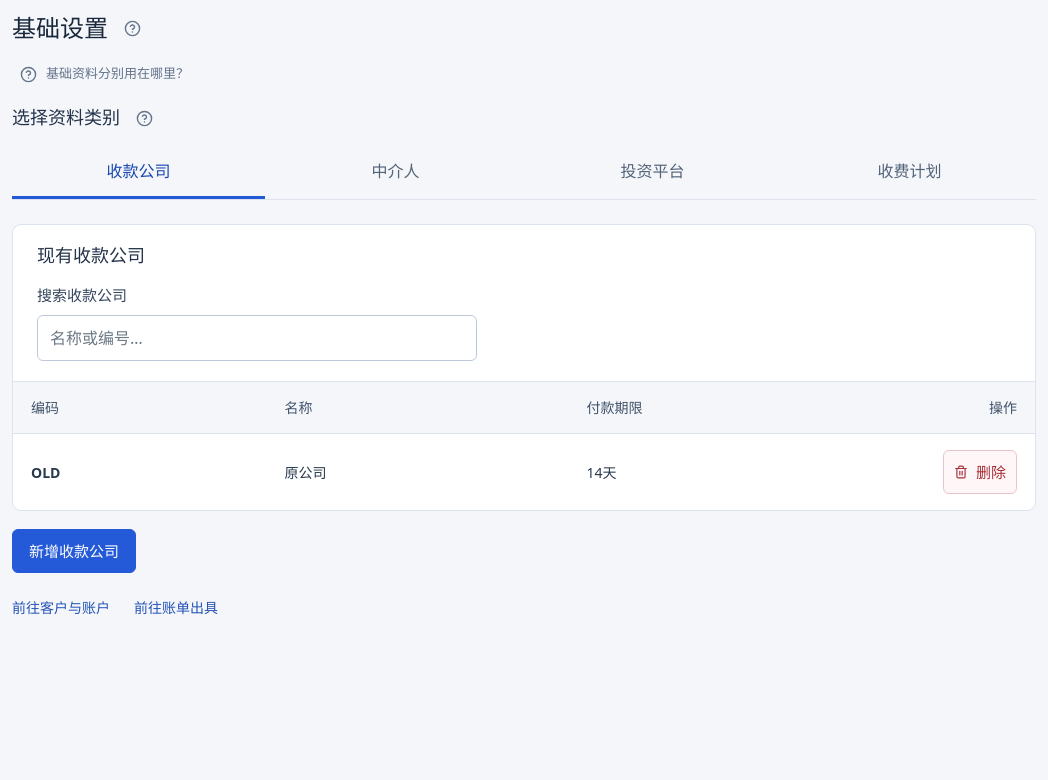
Test: 保存成功后立即更新页面 › 投资平台：异步完成后重置表单并显示新记录
Expected: the text "原公司" is shown, [266,434,569,510]
Click the button "投资平台" at x=652, y=173, box [526,146,779,199]
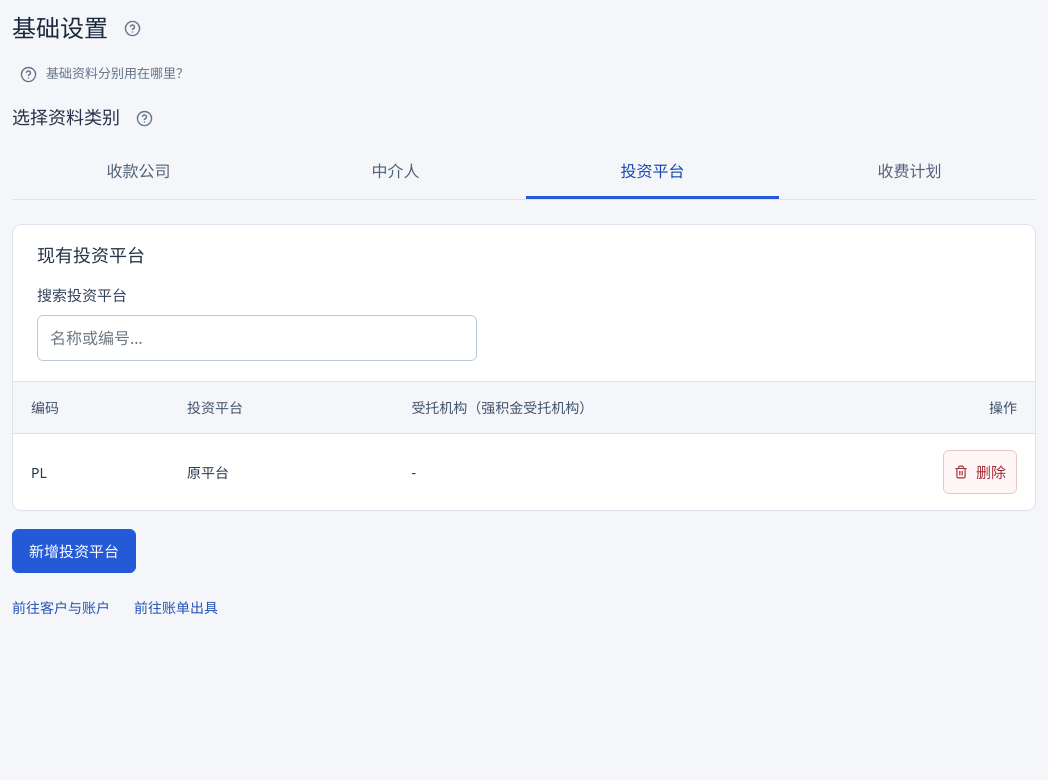
Click the button "新增投资平台" at x=74, y=551, box [12,529,136,573]
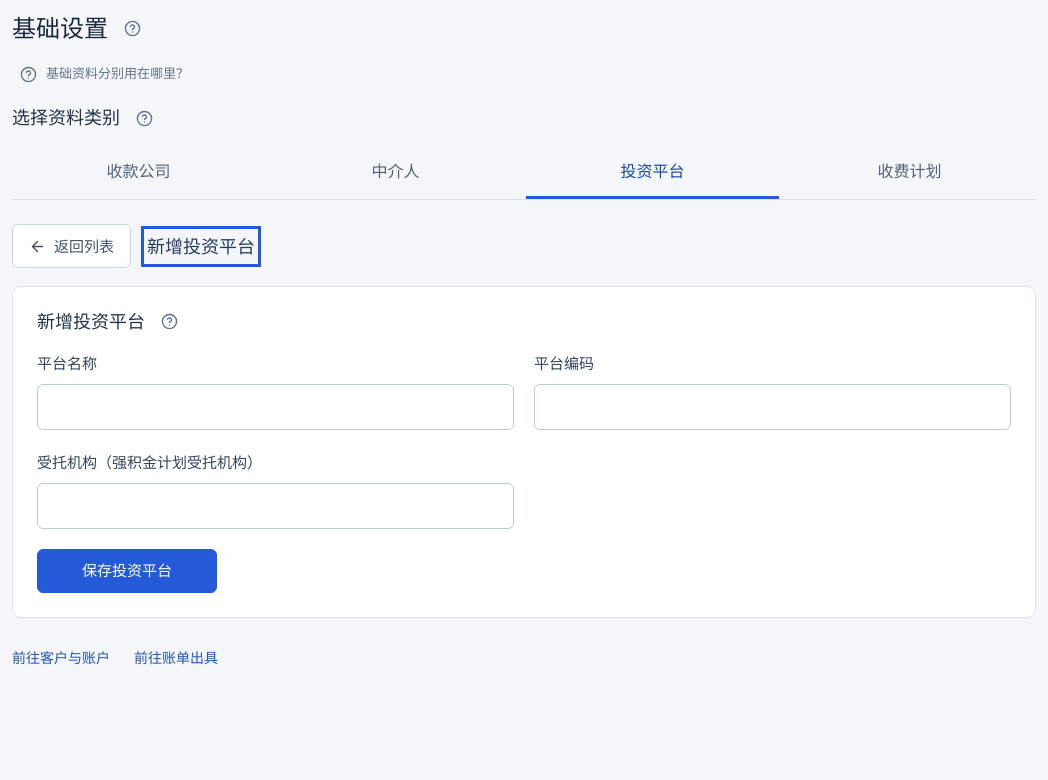
Now the field named "name" is shown
Type "新平台" into the field named "name" at x=276, y=407, box [37,384,514,430]
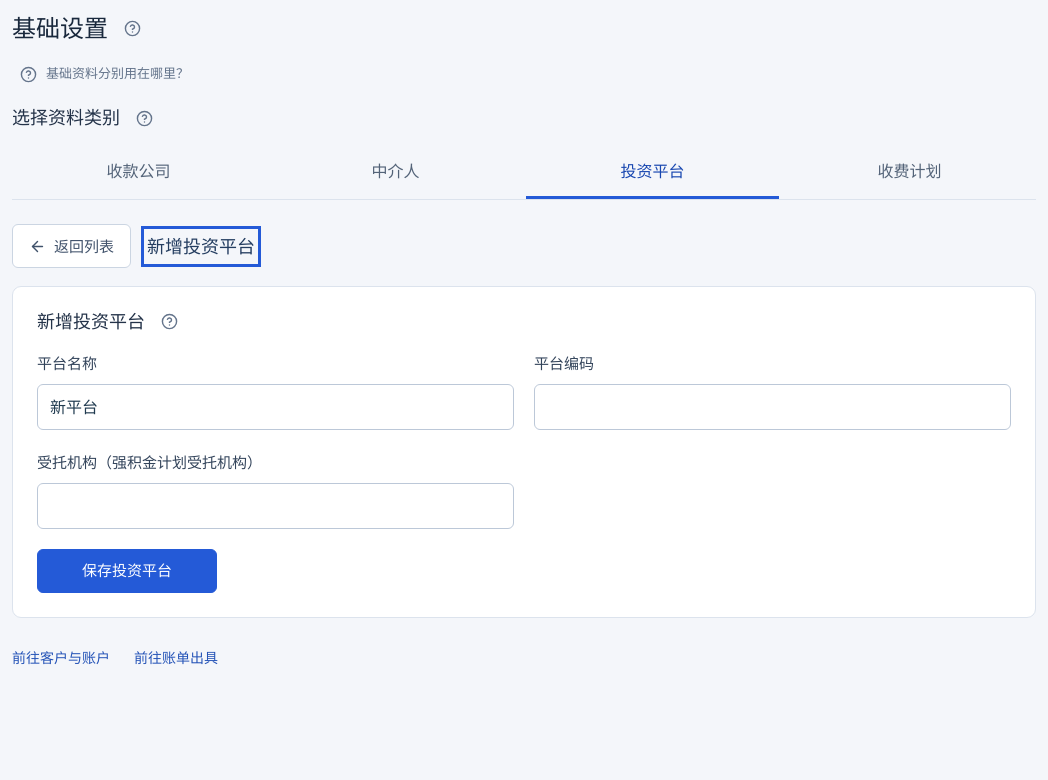
Now the field named "code" is shown
Type "NEWPL" into the field named "code" at x=772, y=407, box [534,384,1011,430]
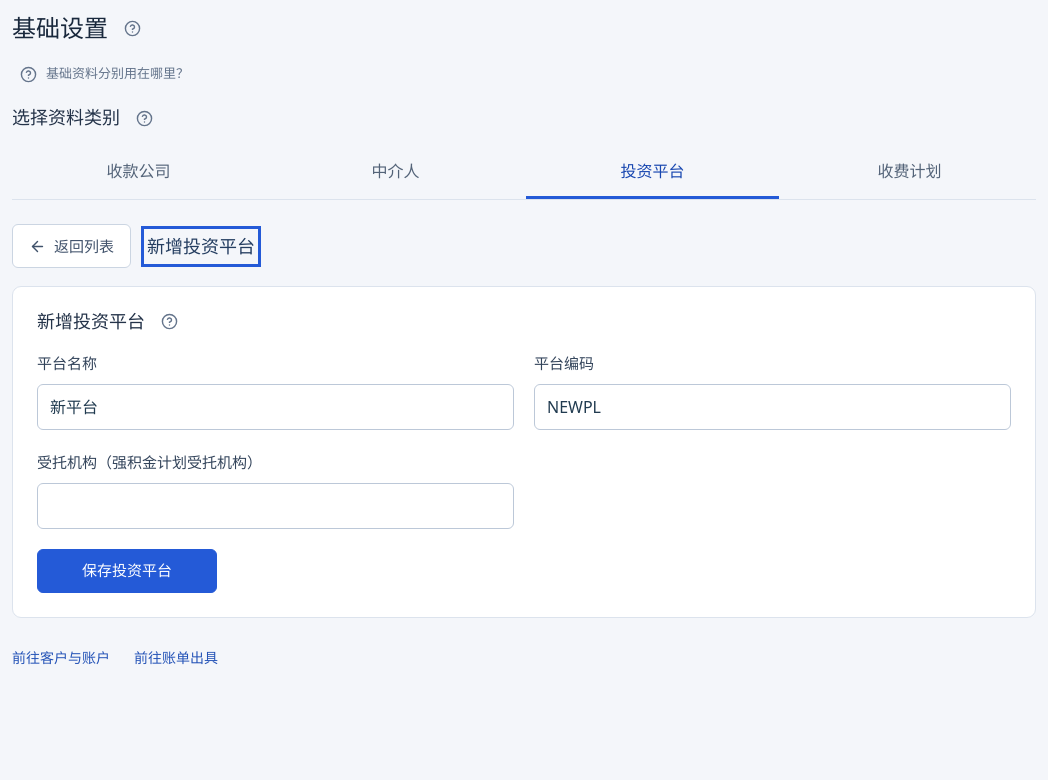
Submit the form "保存投资平台", box [13,351,1035,617]
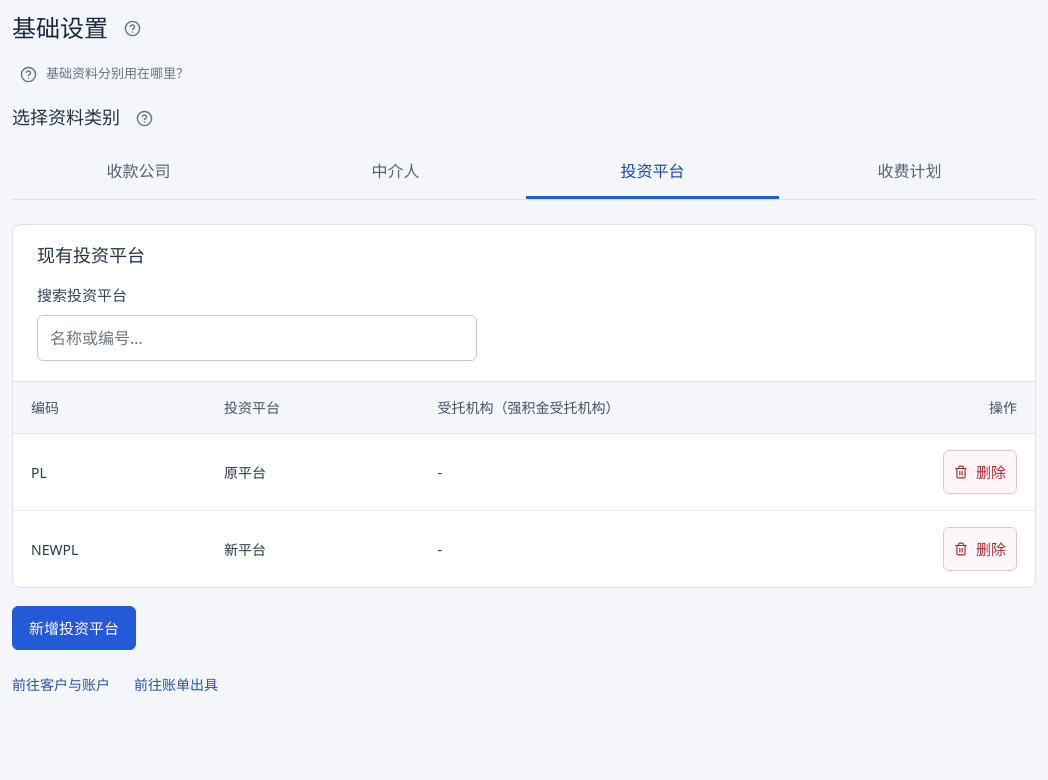
Now the text "新平台" is shown, box [206,511,419,587]
